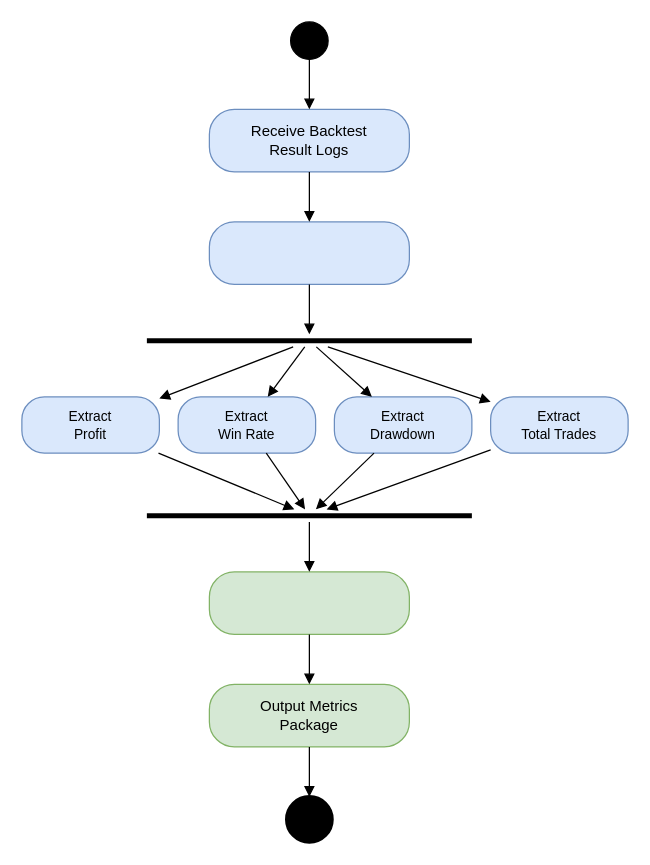
Some shapes in this 650 by 865 pixel diagram are drawn without their labels. The centre of each missing label's shape, as x and y in pixels:
Calculate Risk-Reward Ratio: the point at 308,602
Parse Result Logs: the point at 308,252
